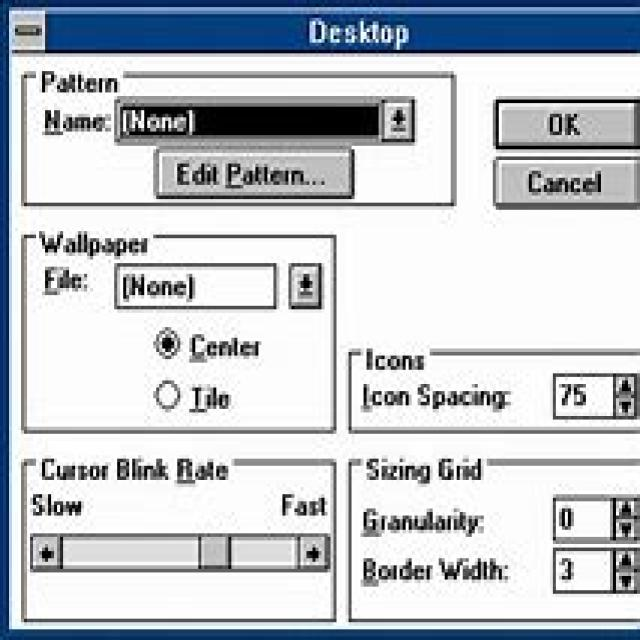button: (148, 147, 358, 200), (488, 151, 640, 212), (488, 92, 640, 150), (7, 8, 49, 54)
dropdownMenu: (111, 91, 423, 147), (111, 258, 323, 311)
label: (38, 455, 234, 487), (359, 553, 518, 592), (360, 379, 517, 415), (358, 500, 494, 540), (305, 13, 419, 51), (364, 450, 486, 484), (34, 226, 156, 254), (186, 330, 270, 366), (40, 104, 111, 138), (36, 260, 97, 298), (362, 342, 430, 373), (38, 68, 123, 92), (189, 380, 237, 419), (30, 491, 90, 518), (276, 489, 331, 518)
radio: (150, 375, 184, 416), (152, 322, 183, 360)
slider: (27, 530, 335, 573)
upDown: (549, 369, 640, 421), (549, 545, 640, 596), (551, 490, 640, 542)
